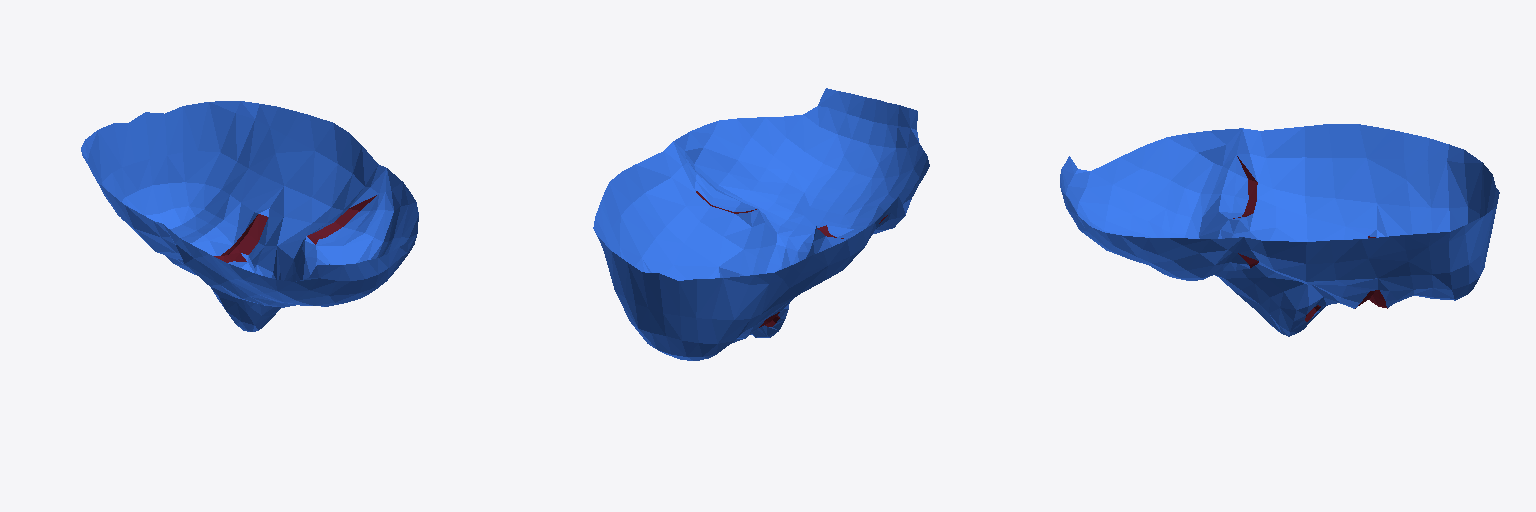
3 renders of one model, left to right at view 1: azimuth 30°, elevation 25°; view 2: azimuth 150°, elevation 25°; view 3: azimuth 270°, elevation 25°, orthographic.
Parts seen in each view (by area): view 1: face, lips; view 2: face; view 3: face, lips.
Boxes of the visible parts, <box> form: face: <box>81,101,418,331</box>; lips: <box>214,195,376,262</box>; face: <box>593,88,929,360</box>; face: <box>1060,124,1499,336</box>; lips: <box>1233,156,1387,321</box>.
Bounding box in the file's own units: 83.36 × 52.67 × 132.